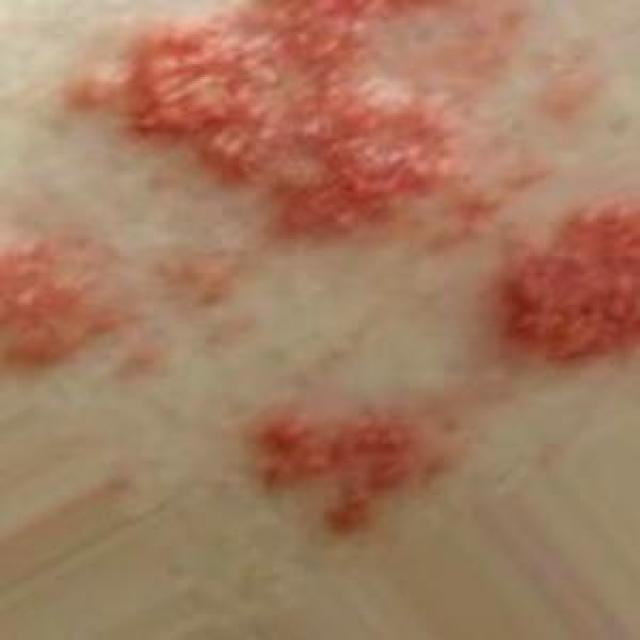Shingles: (69, 0, 474, 230), (239, 402, 440, 527), (496, 193, 640, 364), (0, 234, 124, 376)
